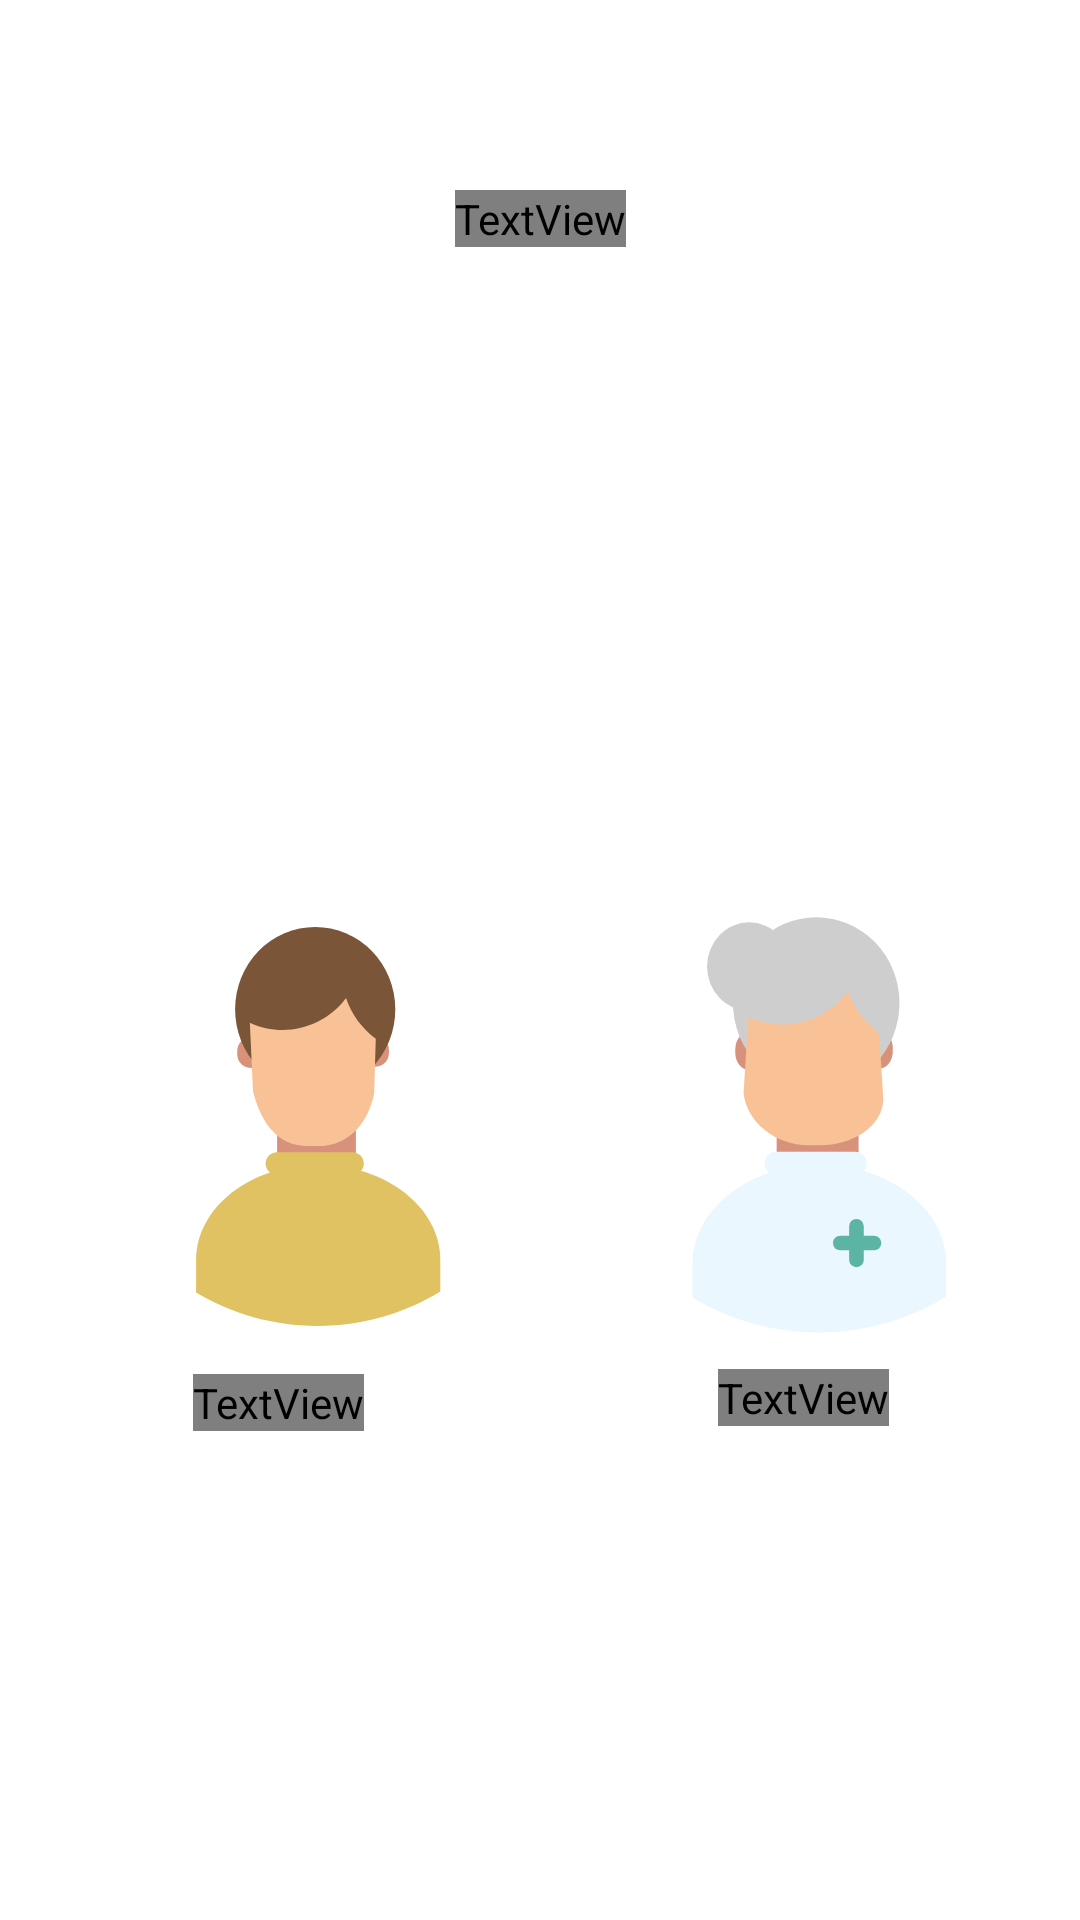

Locate icon controls on the screen. Image size 1080px x 1920px, boxes as (x1, y1, x2, y2).
specialist: (707, 917, 899, 1268)
